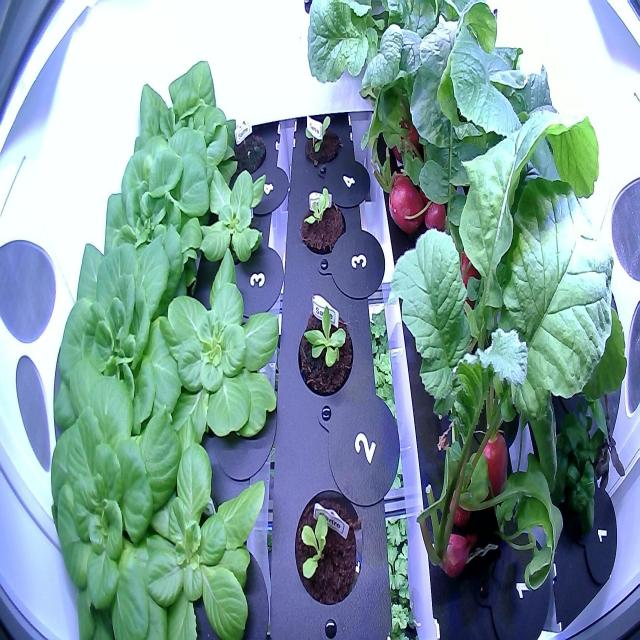pod: (224, 122, 270, 178)
young: (45, 224, 198, 453), (41, 393, 181, 639), (137, 440, 275, 640), (160, 245, 286, 443), (94, 123, 217, 278), (130, 55, 238, 188), (286, 471, 368, 610), (196, 156, 273, 269), (290, 293, 359, 410), (296, 171, 354, 265), (298, 109, 347, 173)
